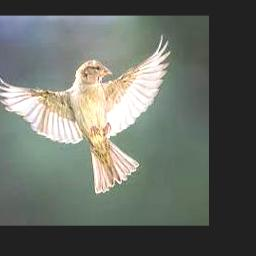Sparrow: (0, 34, 171, 193)
